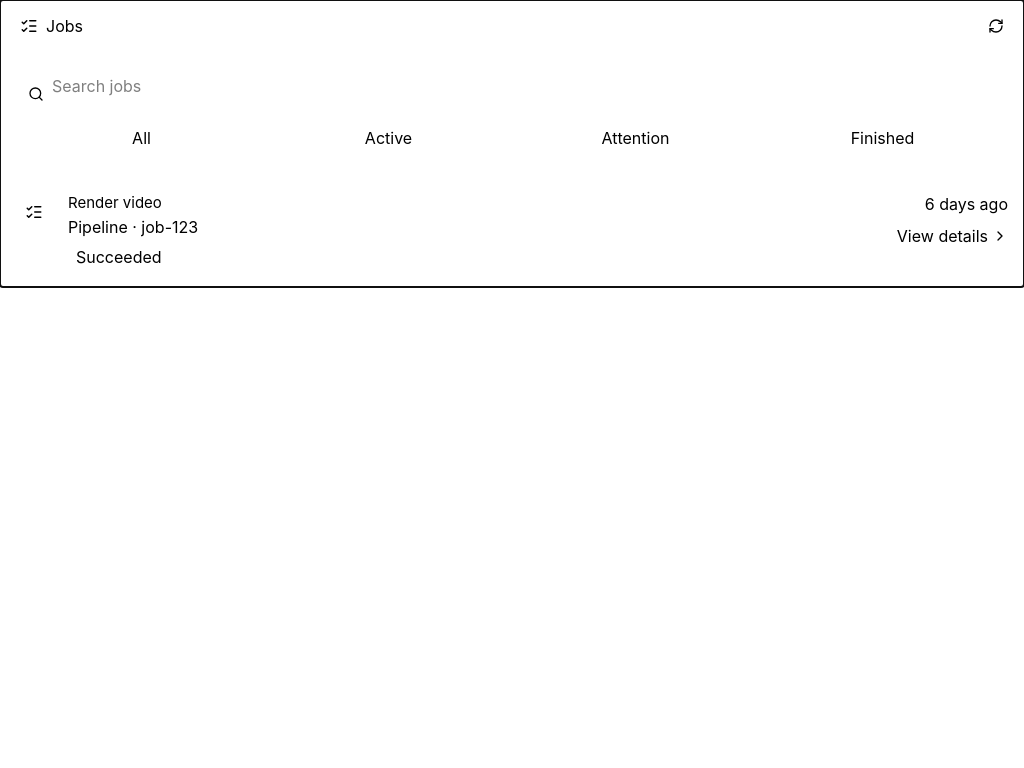
Test: Jobs & QA discovery visibility › shows both dates for an attempt crossing midnight and preserves failed history
Click the button "Render video": x=115, y=202 left=0, top=176, right=1023, bottom=286
(page scrolled)
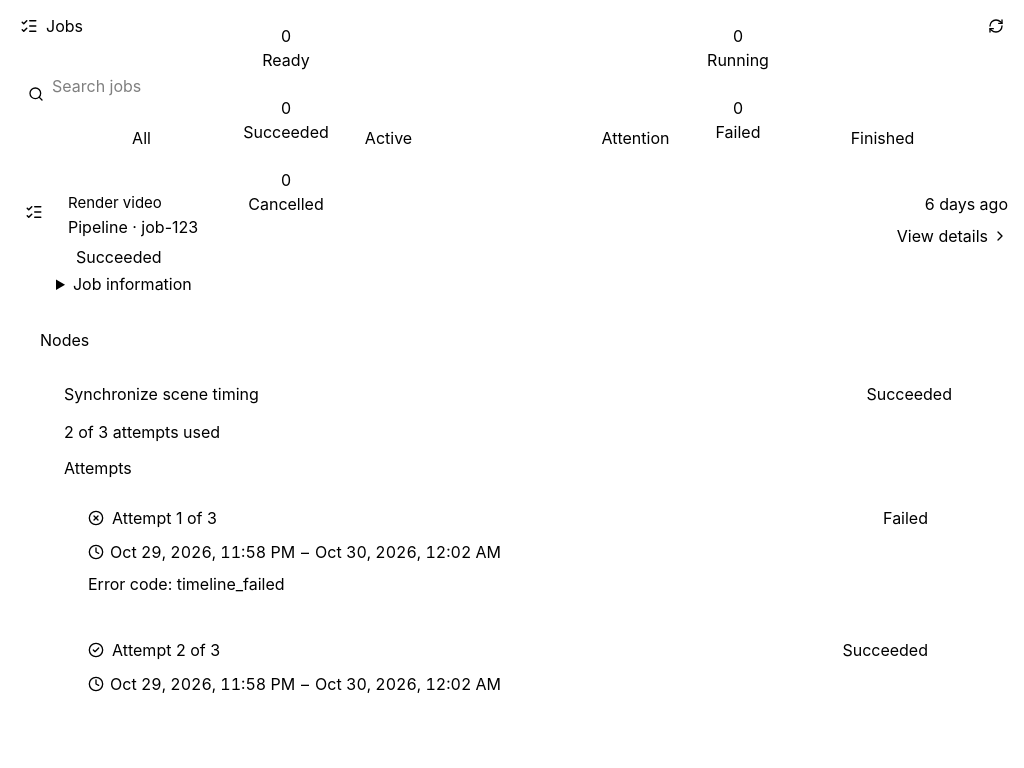
Now the text "Attempt 1 of 3" is shown, box left=112, top=506, right=217, bottom=530
Now the text "Attempt 2 of 3" is shown, box left=112, top=638, right=220, bottom=662
Now the element labelled "Oct 29, 2026, 11:58 PM – Oct 30, 2026, 12:02 AM" below "Attempt 1 of 3" is shown, box left=88, top=542, right=501, bottom=562
